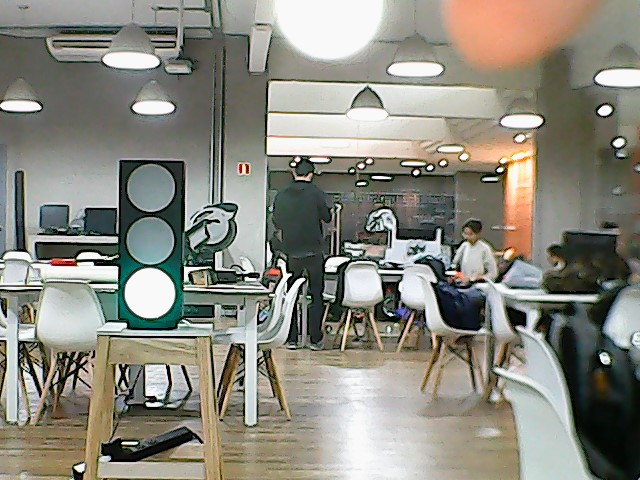verde: (114, 154, 190, 335)
